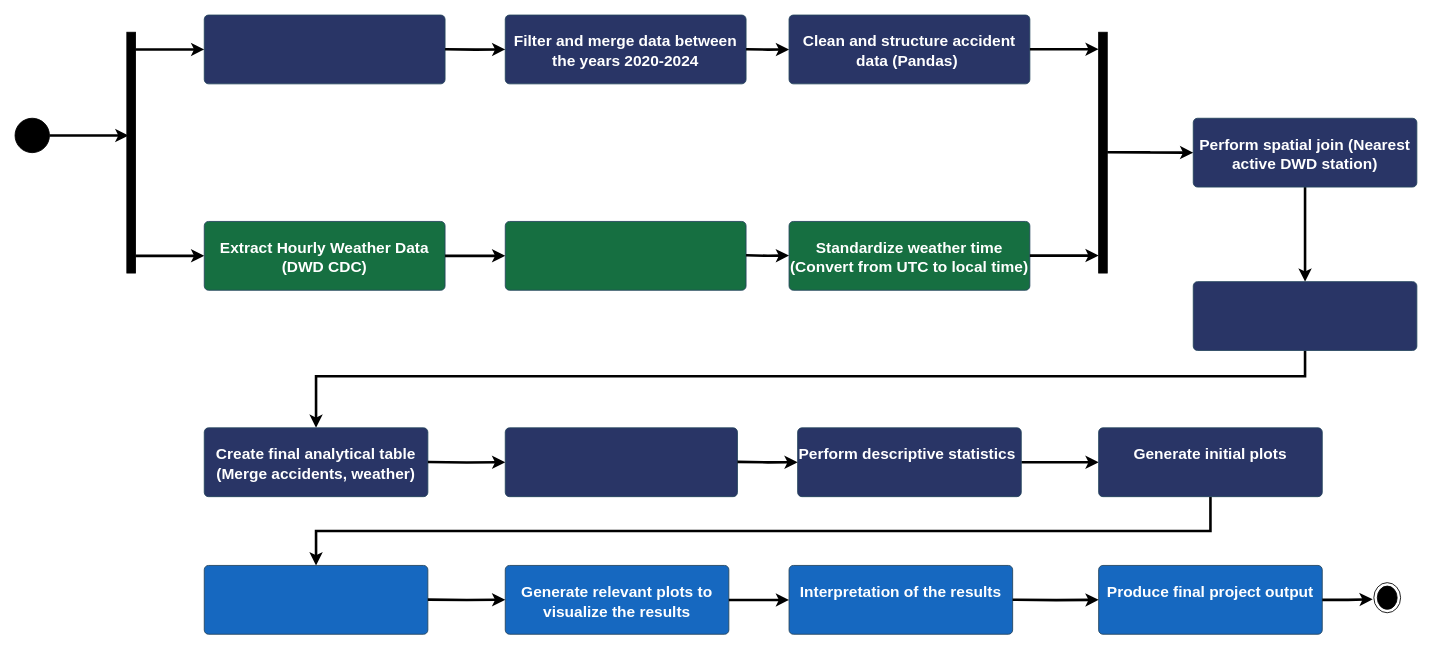
Some shapes in this 1432 by 649 pixel diagram are drawn without their labels. Here are the shapes that lost their labels. From the top down, the centre of each, then its label:
the point at 324,49: Extract Accident Data in CSV format (Unfallatlas.de)
the point at 625,255: Select target weather parameters (air_temp, precip)
the point at 1304,315: Generate a complete hourly time series for 2020-2024
the point at 620,462: Perform feature engineering (precip_intestity, is_weekend)
the point at 315,599: Analyze research questions
